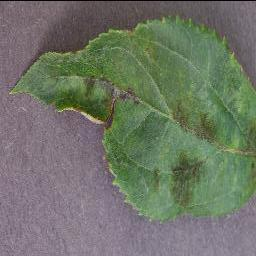apple healthy: (8, 14, 255, 223)
